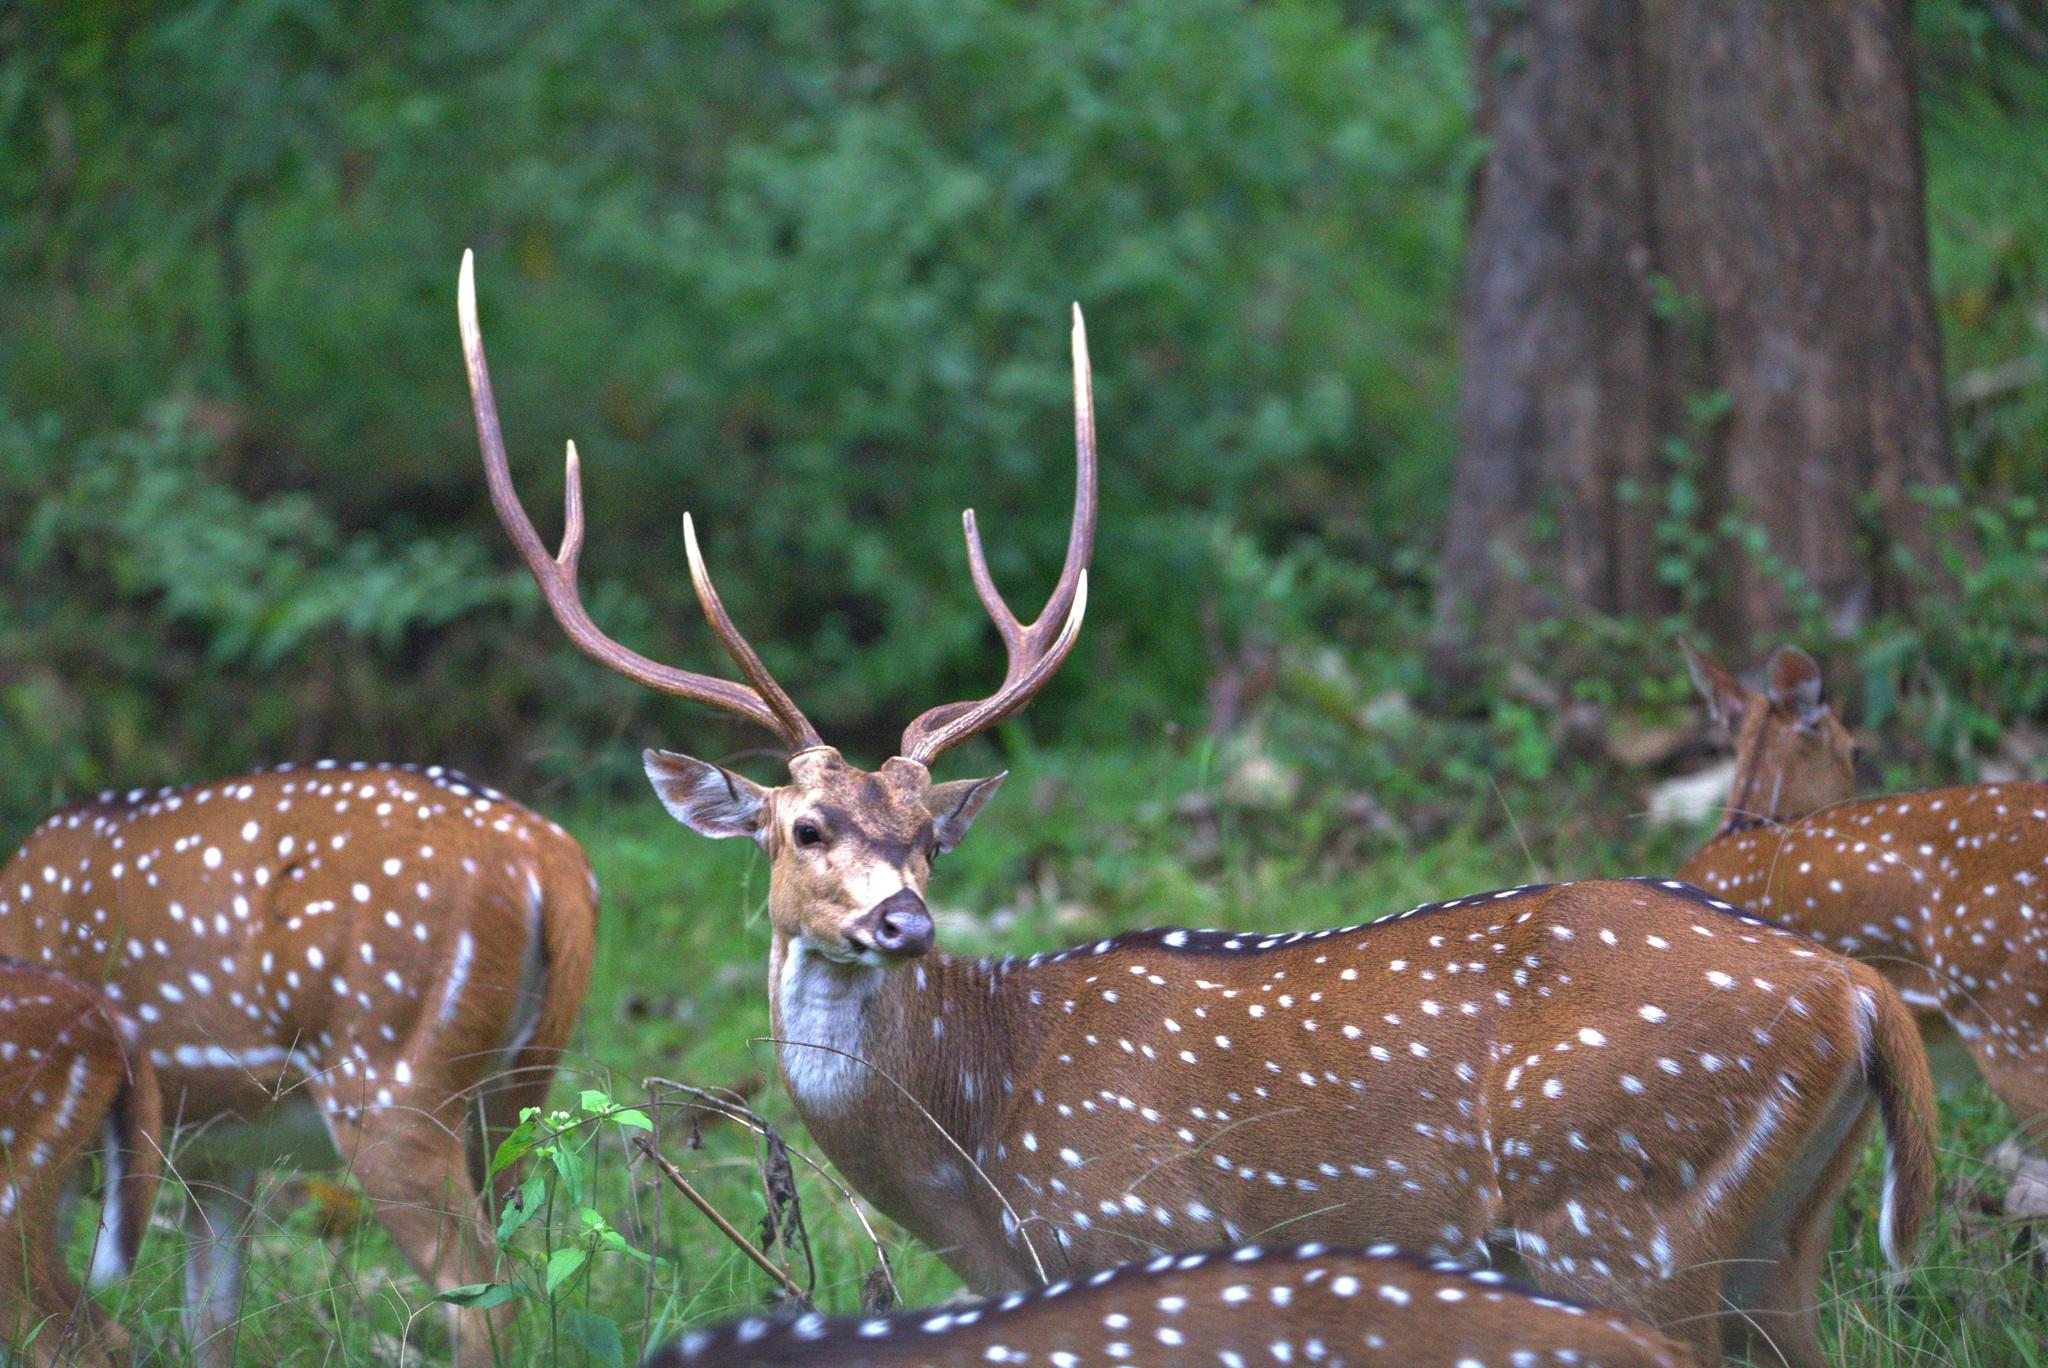Deer: (459, 273, 1937, 1362), (0, 763, 598, 1363), (1676, 643, 2046, 1156)
